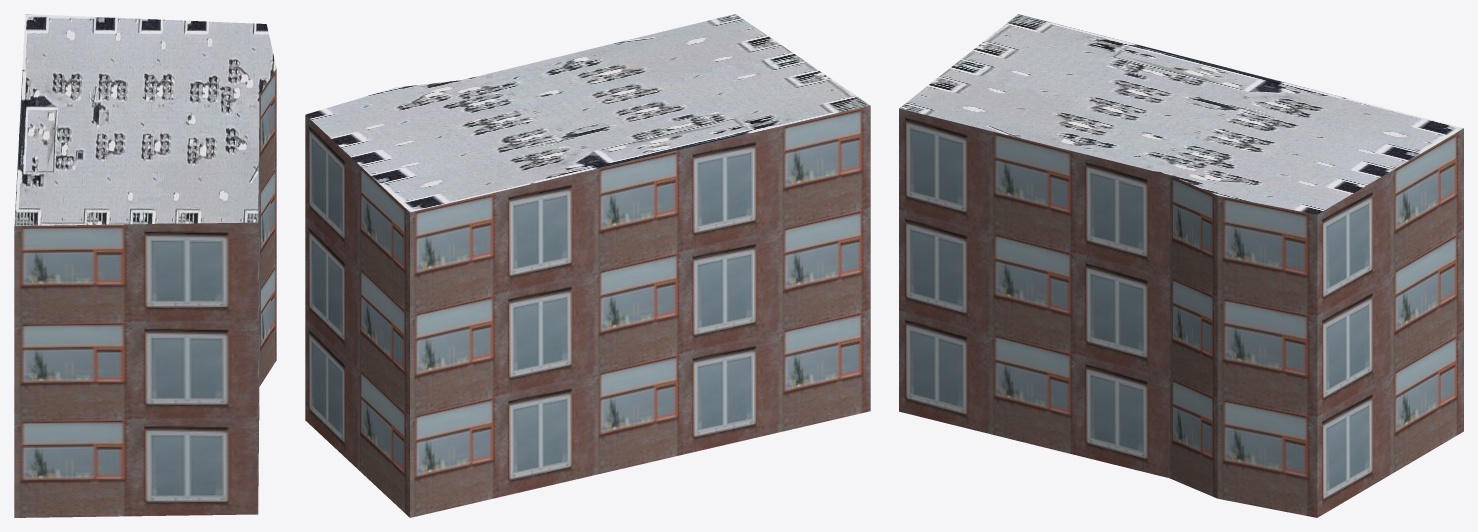
Rendered from ResTex__3163.fbx.
3 renders of one model, left to right at view 1: azimuth 30°, elevation 25°; view 2: azimuth 150°, elevation 25°; view 3: azimuth 270°, elevation 25°, orthographic. The views are drawn at different scales.
Visible parts, largest first — view 1: CityEngineMaterial_19_m, CityEngineMaterial_15_m; view 2: CityEngineMaterial_19_m, CityEngineMaterial_15_m; view 3: CityEngineMaterial_19_m, CityEngineMaterial_15_m.
Boxes of the visible parts, x1=… form: CityEngineMaterial_19_m: x1=14, y1=69, x2=276, y2=517; CityEngineMaterial_15_m: x1=14, y1=14, x2=276, y2=225; CityEngineMaterial_19_m: x1=305, y1=105, x2=870, y2=517; CityEngineMaterial_15_m: x1=305, y1=14, x2=870, y2=212; CityEngineMaterial_19_m: x1=899, y1=108, x2=1463, y2=517; CityEngineMaterial_15_m: x1=899, y1=14, x2=1463, y2=214.
Size of the model in its own units: 12.78 by 9 by 15.19.
Materials: 2 (2 with a texture image).
